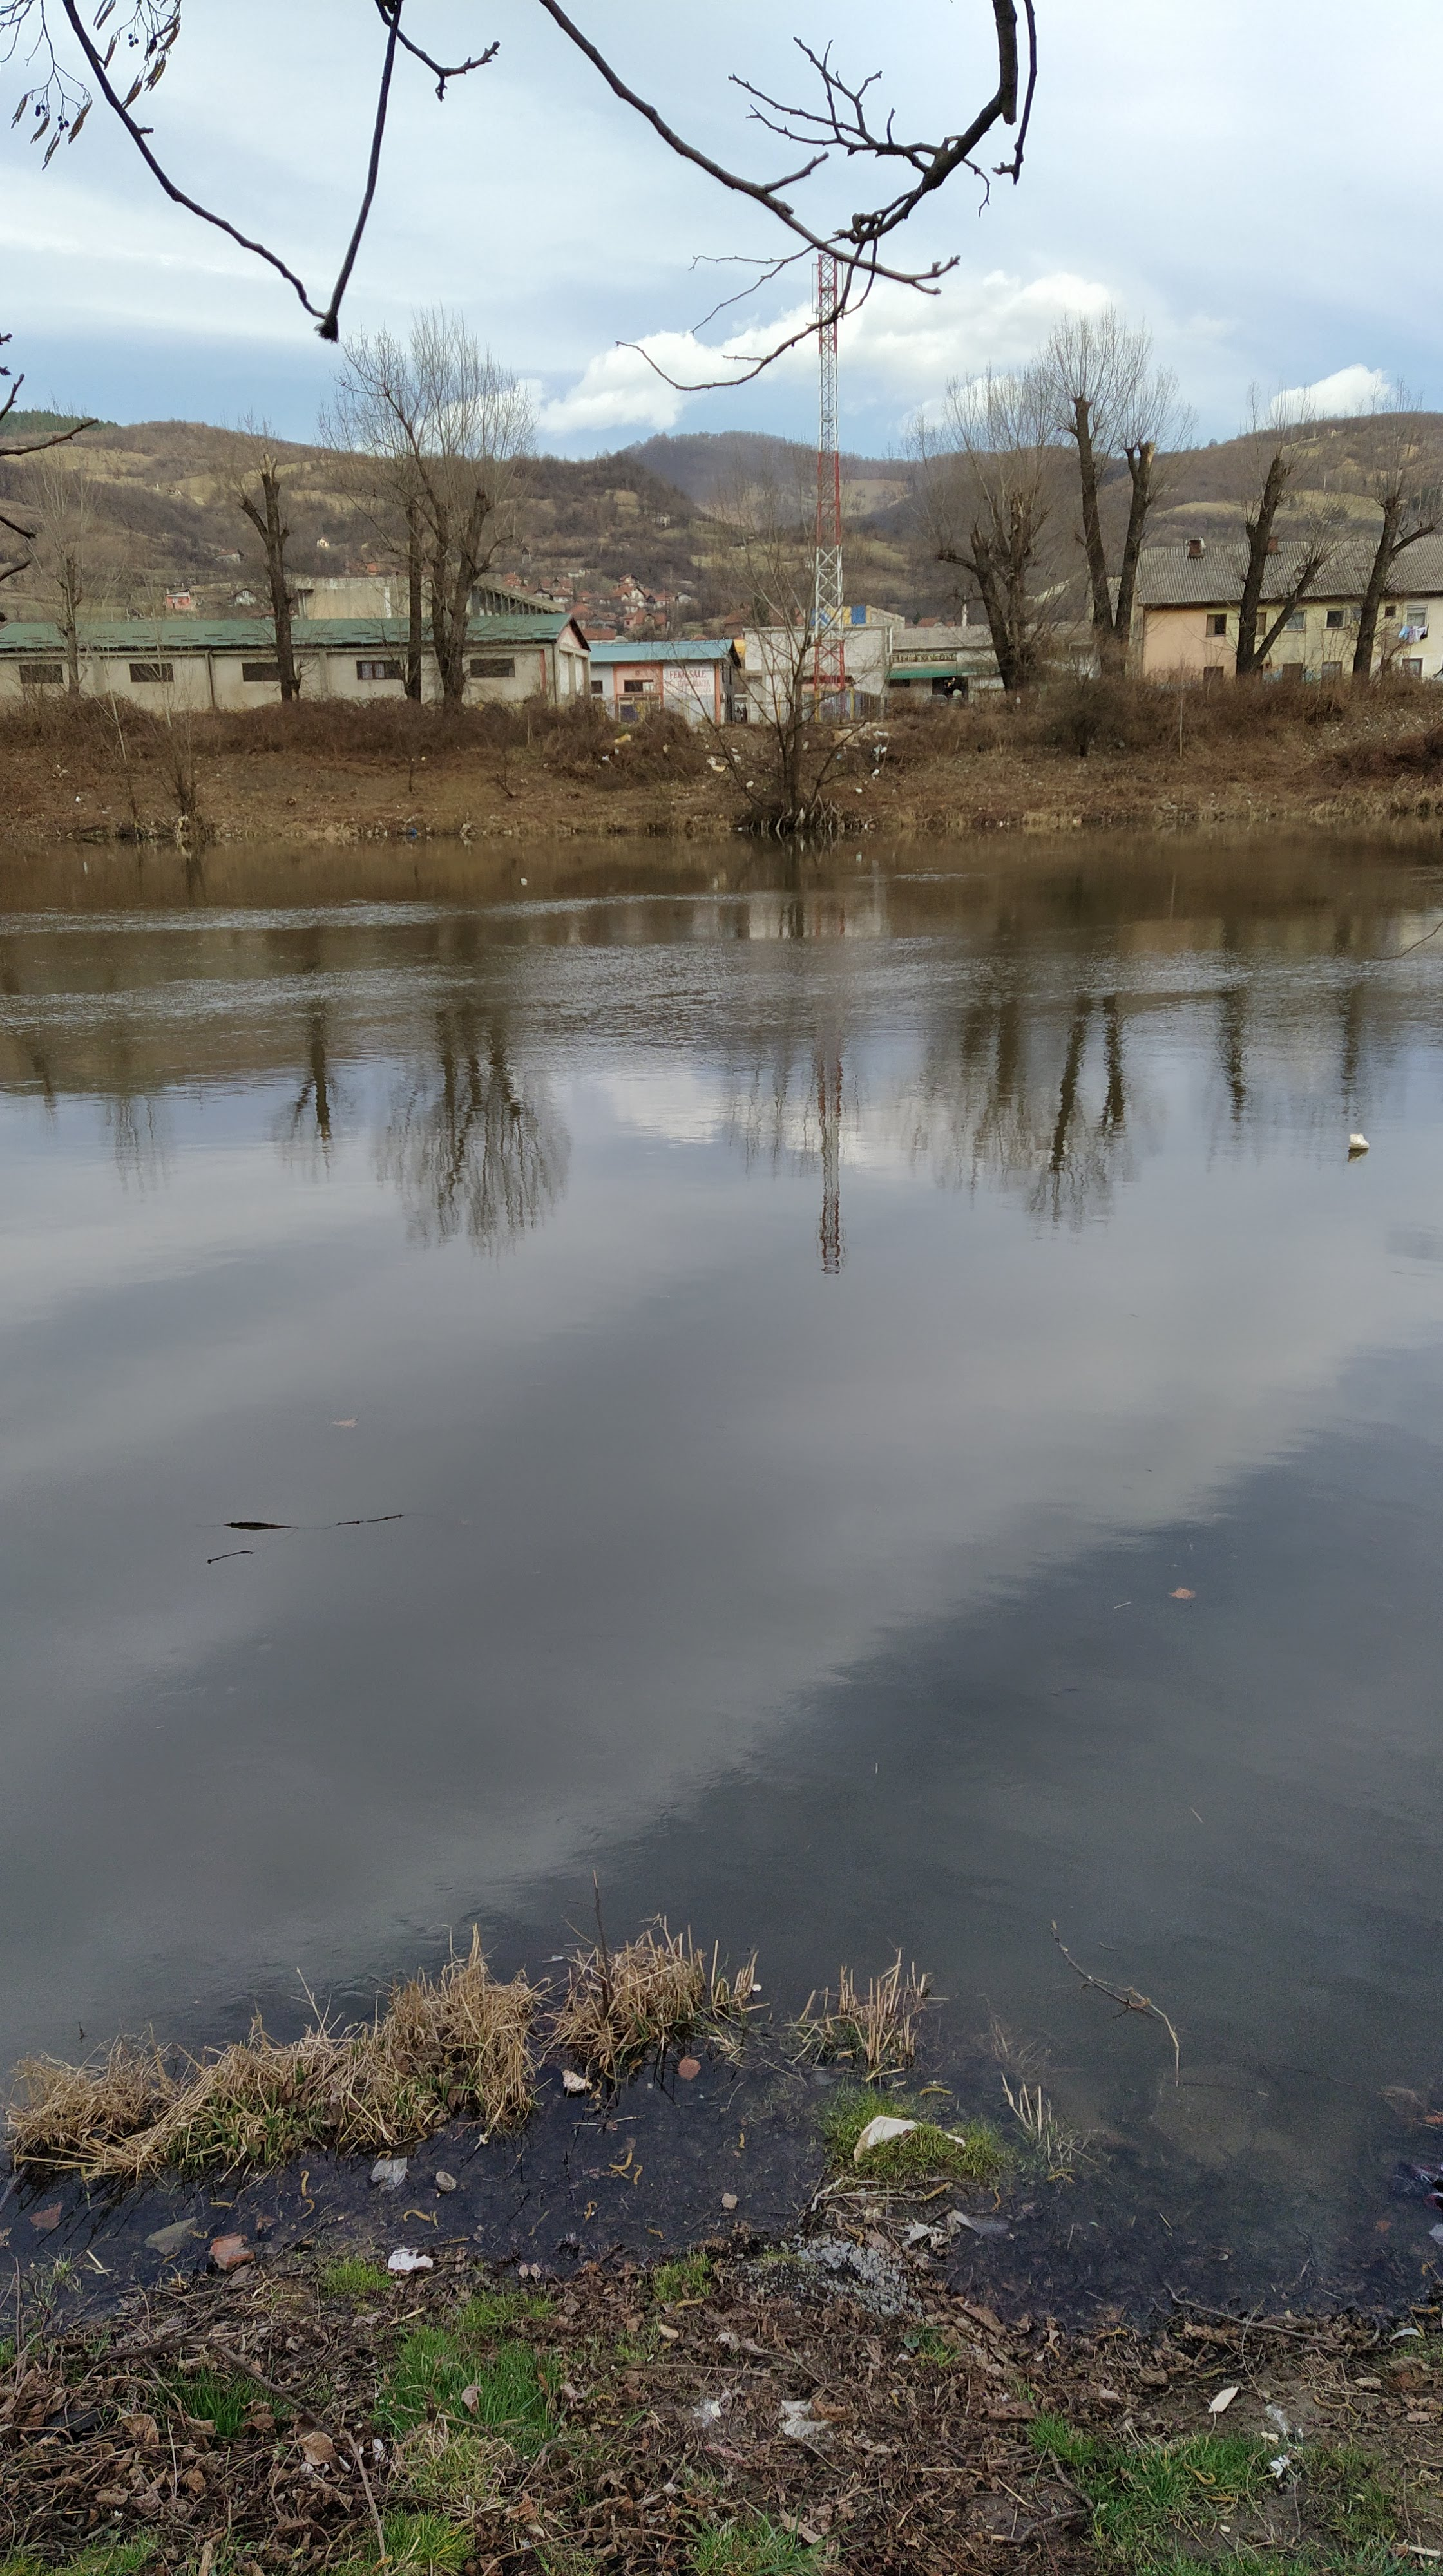Plastic Bottle: (1347, 1134, 1369, 1148), (521, 878, 526, 883)
